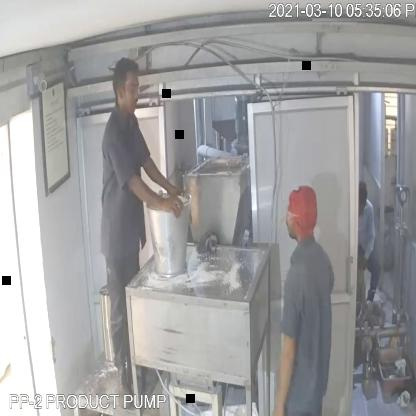no_glove: (120, 164, 188, 220)
